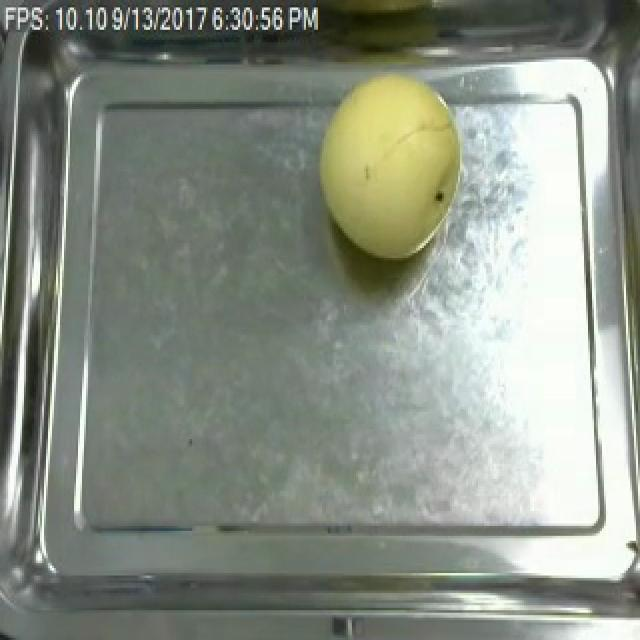Fruit: (308, 59, 472, 268)
